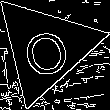O_N: (18, 18, 73, 77)
